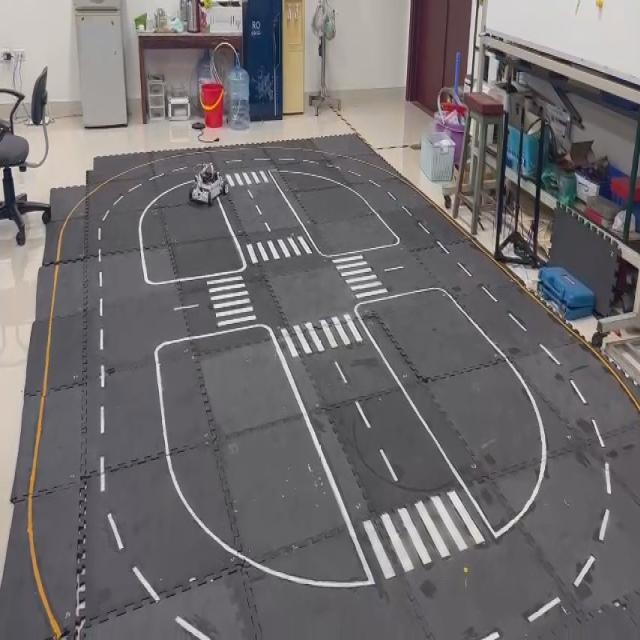SiCo-CAR: (188, 160, 228, 207)
